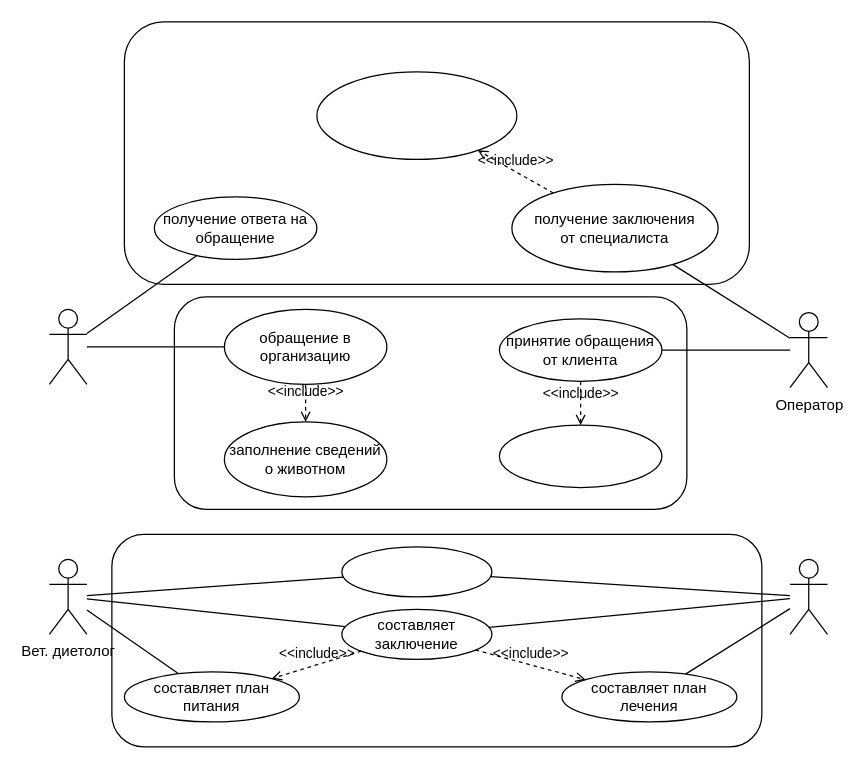
This 864x769 diagram has some shape labels left out. Here are the shapes that lost their labels. From the top down, the centre of each, then its label:
At [416,115]: "оповещение клиента о результатах обращения".
At [67,346]: "Клиент".
At [580,456]: "выбор специалиста".
At [416,571]: "рассмотрение обращения".
At [808,596]: "Ветврач".
